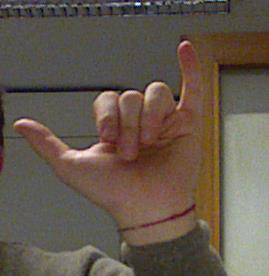clockwise: (12, 40, 204, 229)
